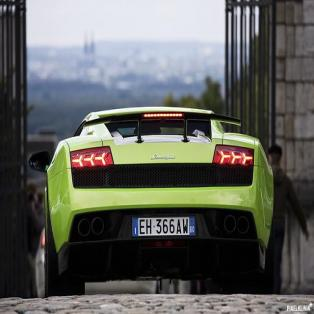Auto: (27, 105, 276, 295)
